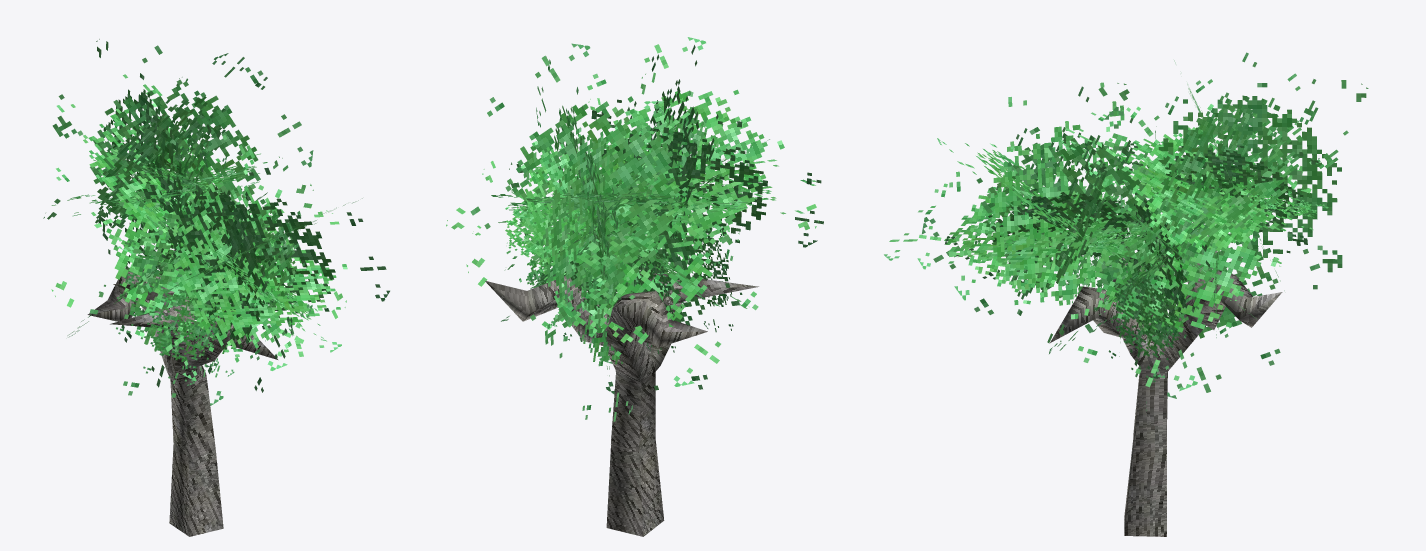
File: Tree.fbx
3 views of the same model, side by side, from view 1: azimuth 30°, elevation 25°; view 2: azimuth 150°, elevation 25°; view 3: azimuth 270°, elevation 25° (orthographic). The views are drawn at different scales.
Parts seen in each view (by area): view 1: TreeUp, TreeeBottom; view 2: TreeUp, TreeeBottom; view 3: TreeUp, TreeeBottom.
Part boxes in pixels (x1,y1,x2,y2): TreeUp: [43, 39, 389, 454]; TreeeBottom: [169, 444, 223, 536]; TreeUp: [446, 37, 823, 451]; TreeeBottom: [606, 439, 664, 536]; TreeUp: [884, 52, 1368, 449]; TreeeBottom: [1124, 437, 1166, 536].
Bounding box in the file's own units: 401 × 667 × 633.
